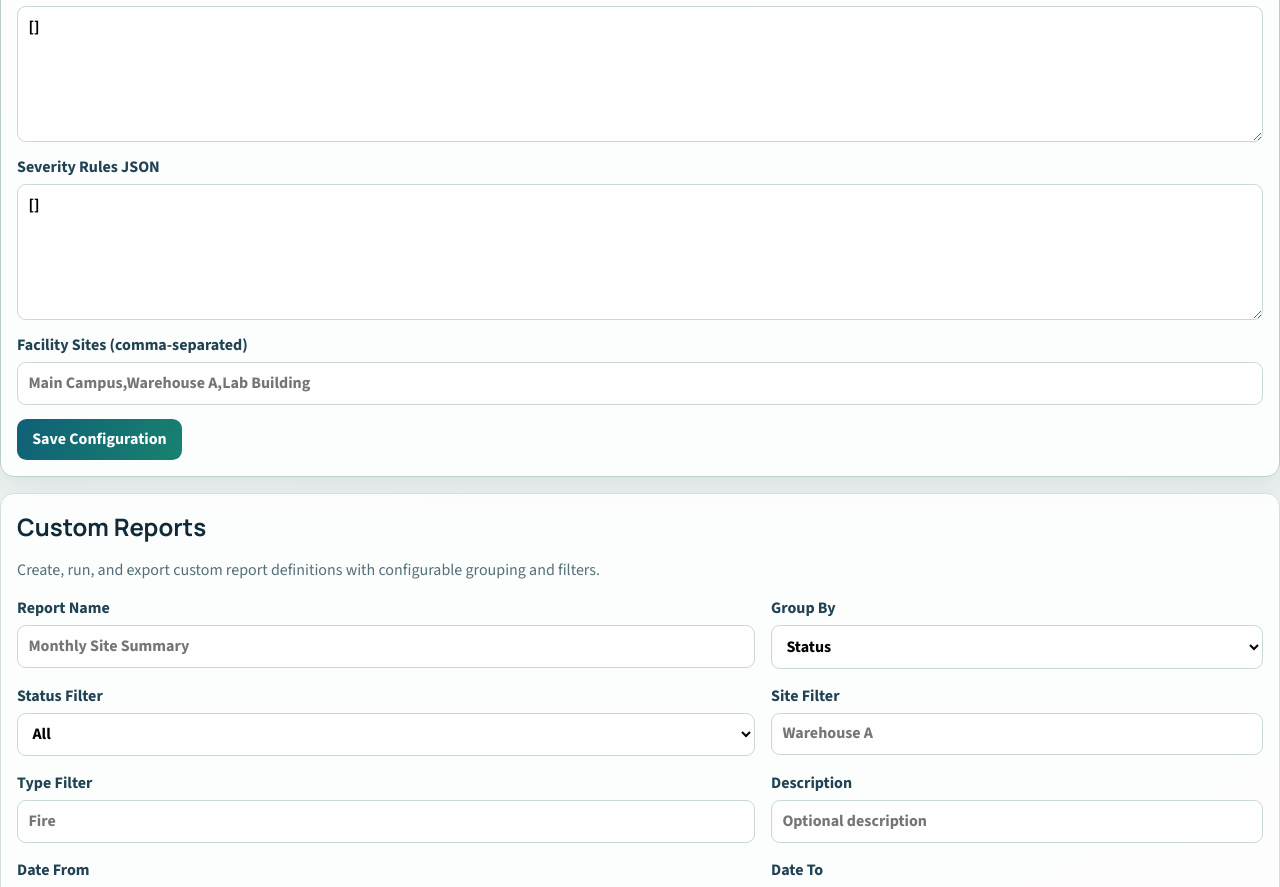
Test case: Admin.vue › saves settings when Save Configuration is clicked
(page scrolled)
Click the button "Save Configuration" at coordinates (99, 440), box [17,419,182,460]
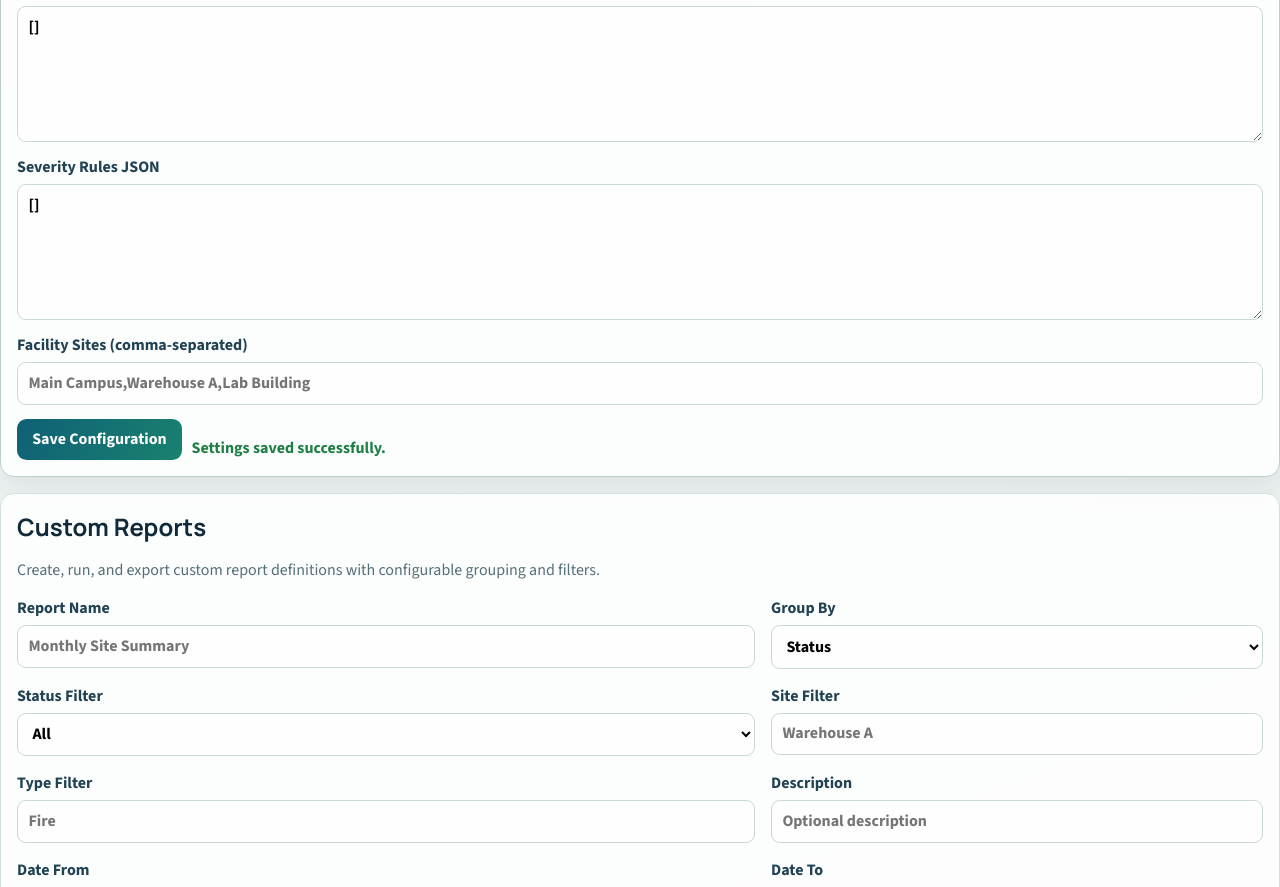
Expected: the text "Settings saved successfully." is shown, [192,437,386,460]
